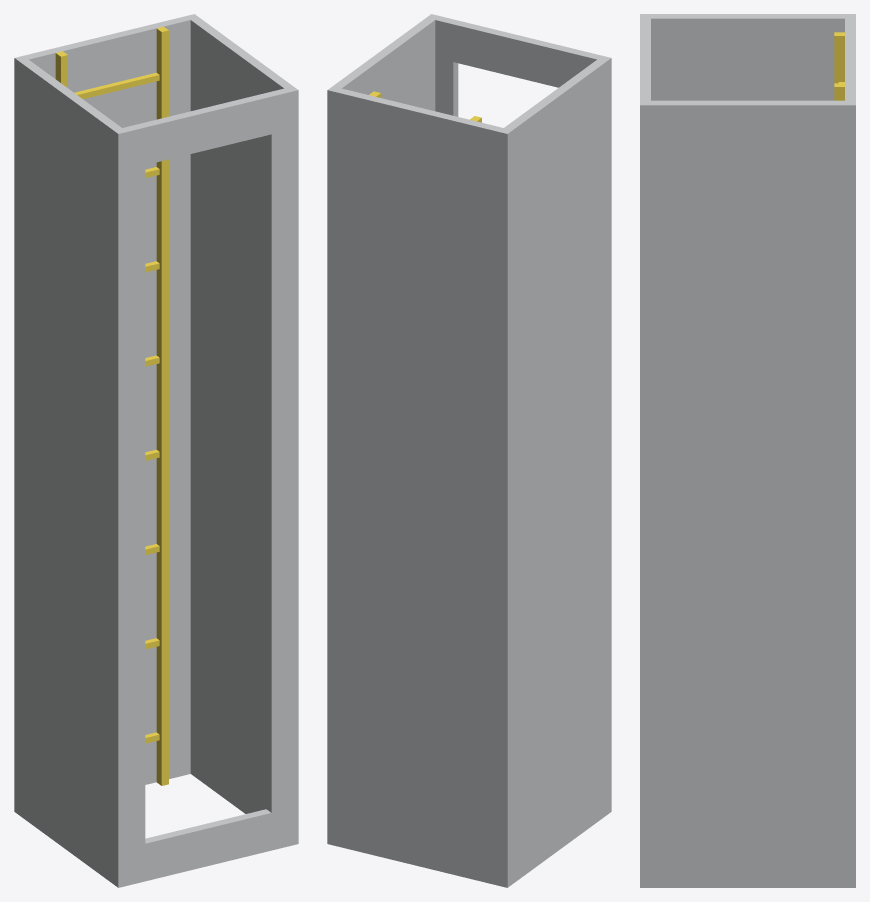
The model's file is Utility_Riser.glb.
3 renders of one model, left to right at view 1: azimuth 30°, elevation 25°; view 2: azimuth 150°, elevation 25°; view 3: azimuth 270°, elevation 25°, orthographic. The views are drawn at different scales.
Parts seen in each view (by area): view 1: Utility_Riser; view 2: Utility_Riser; view 3: Utility_Riser.
Boxes of the visible parts, x1,y1,x2,y2 form: Utility_Riser: (14, 14, 298, 887); Utility_Riser: (327, 14, 611, 887); Utility_Riser: (640, 14, 855, 887).
Size of the model in its own units: 1 by 4 by 1.
